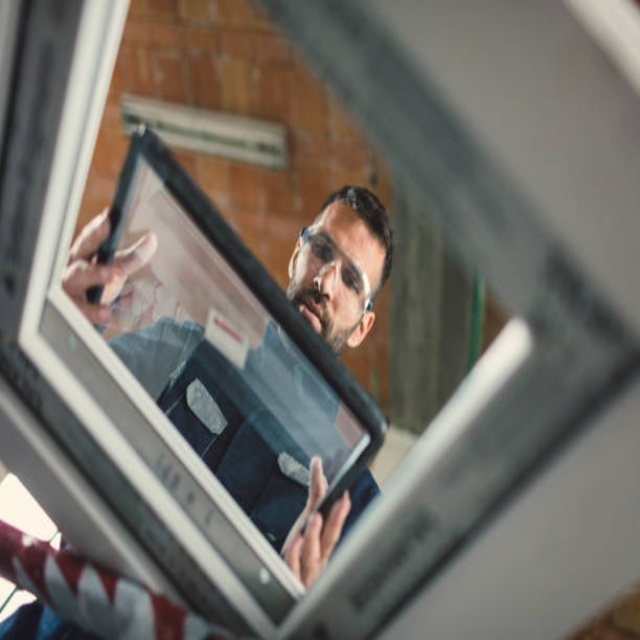Gafas: (296, 228, 375, 315)
Sin_guantes: (60, 207, 159, 331), (280, 454, 352, 593)
Sin_mascara: (298, 304, 322, 329)
